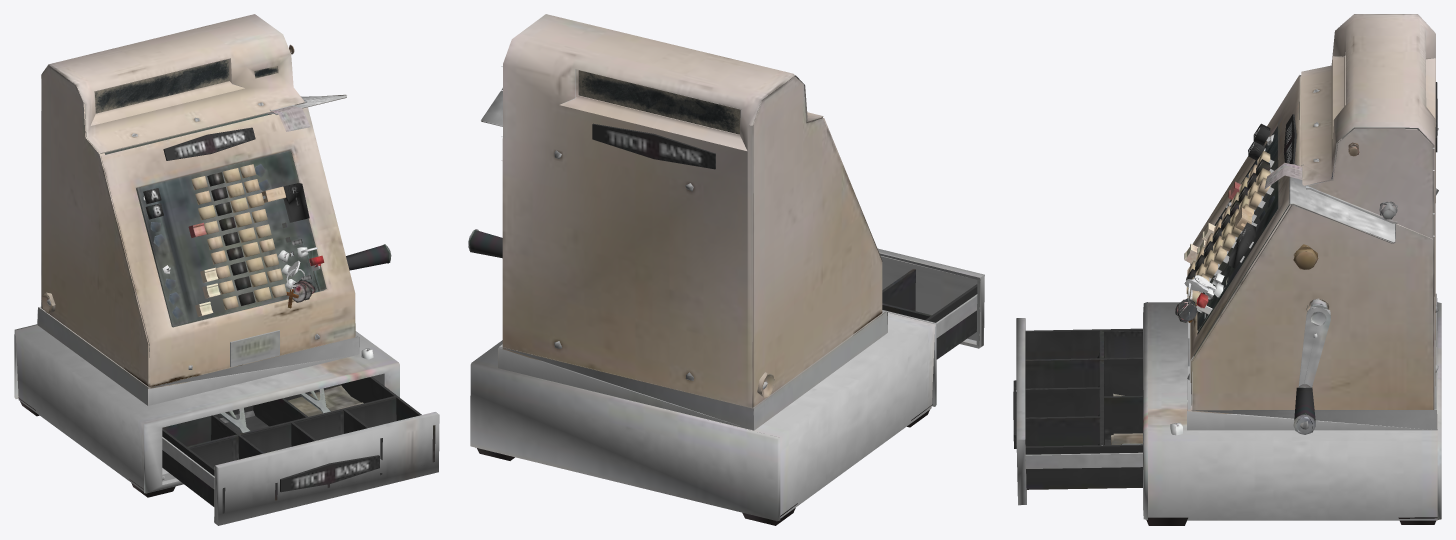
Rendered from isl_register.glb.
3 views of the same model, side by side, from view 1: azimuth 30°, elevation 25°; view 2: azimuth 150°, elevation 25°; view 3: azimuth 270°, elevation 25° (orthographic). The views are drawn at different scales.
Visible parts, largest first — view 1: CashRegister_01_body; view 2: CashRegister_01_body; view 3: CashRegister_01_body.
Part boxes in pixels (left/top/right/bottom): CashRegister_01_body: left=14, top=14, right=439, bottom=525; CashRegister_01_body: left=468, top=14, right=984, bottom=525; CashRegister_01_body: left=1013, top=14, right=1441, bottom=525.
Bounding box in the file's own units: 0.5999 × 0.6219 × 0.6229.
2 materials, 2 textured.
